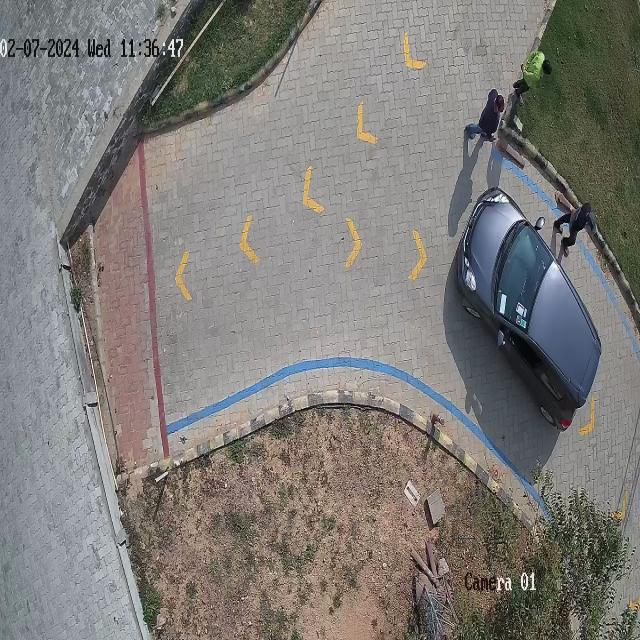car: (456, 189, 601, 431)
